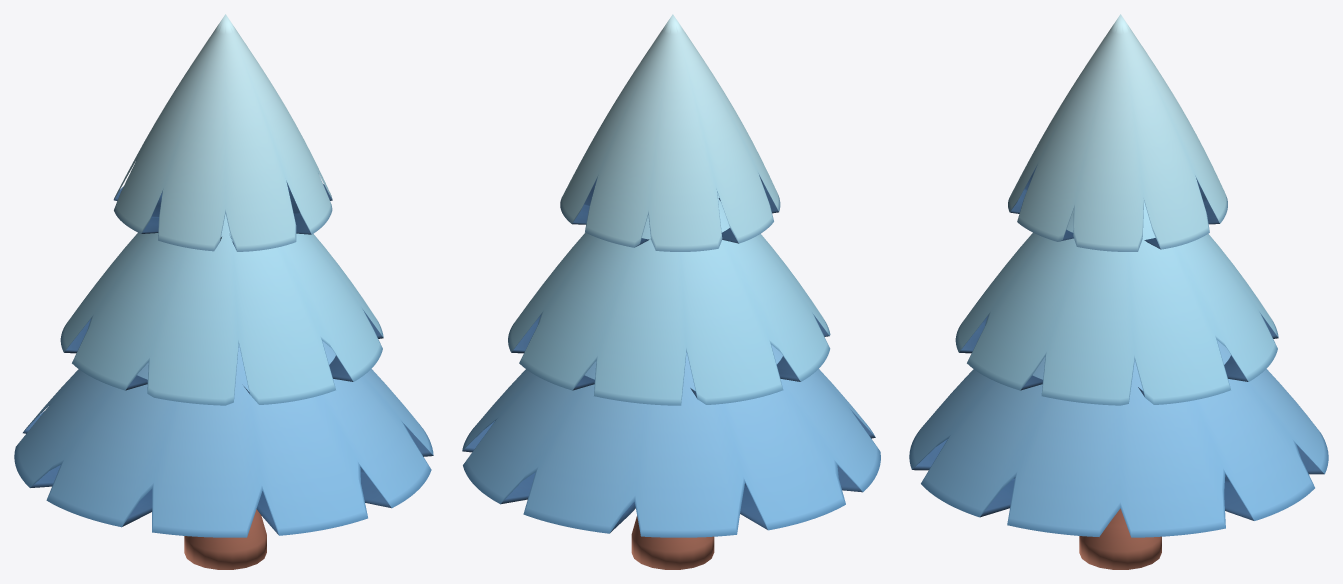
Rendered from pine_1.glb.
3 views of the same model, side by side, from view 1: azimuth 30°, elevation 25°; view 2: azimuth 150°, elevation 25°; view 3: azimuth 270°, elevation 25° (orthographic).
Visible parts, largest first — view 1: pine_1; view 2: pine_1; view 3: pine_1.
Part boxes in pixels (left/top/right/bottom): pine_1: left=14, top=14, right=433, bottom=569; pine_1: left=462, top=14, right=880, bottom=569; pine_1: left=909, top=14, right=1328, bottom=569.
Size of the model in its own units: 2.28 by 3.24 by 2.28.
Materials: 3 (3 with a texture image).
